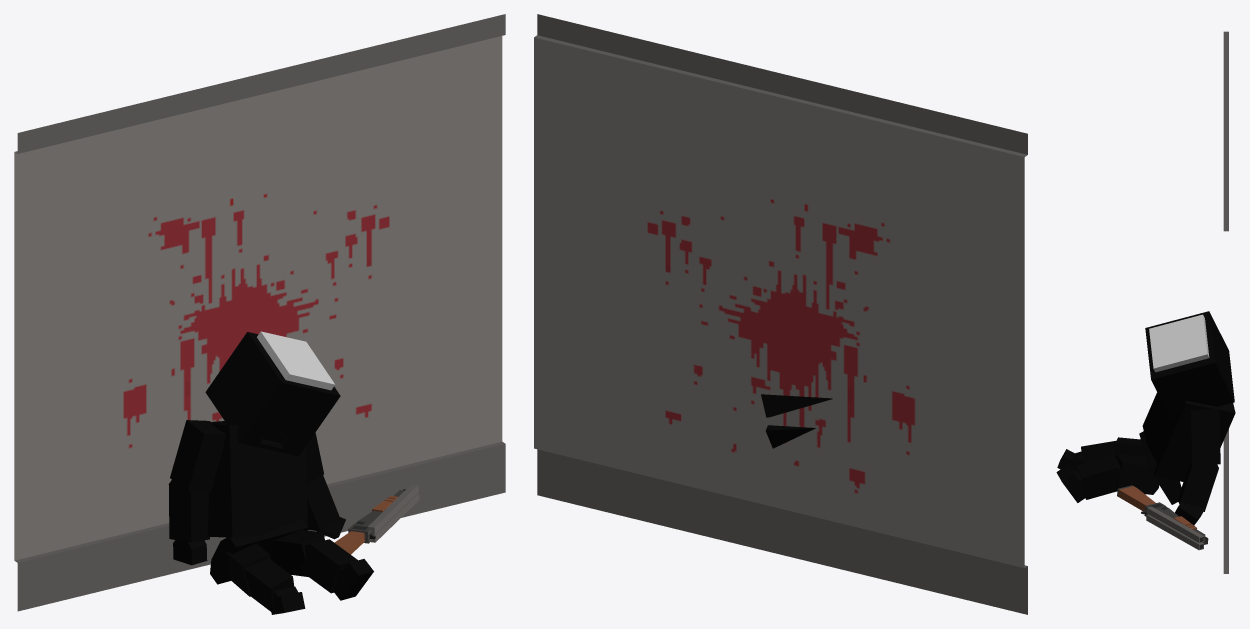
File: AI_Env_Shotgun_Suicide.fbx
3 views of the same model, side by side, from view 1: azimuth 30°, elevation 25°; view 2: azimuth 150°, elevation 25°; view 3: azimuth 270°, elevation 25° (orthographic). The views are drawn at different scales.
Visible parts, largest first — view 1: AI_Env_Shotgun_Suicide; view 2: AI_Env_Shotgun_Suicide; view 3: AI_Env_Shotgun_Suicide.
Part boxes in pixels (bbox=[...]): AI_Env_Shotgun_Suicide: bbox=[14, 14, 505, 614]; AI_Env_Shotgun_Suicide: bbox=[534, 14, 1027, 614]; AI_Env_Shotgun_Suicide: bbox=[1056, 31, 1235, 573].
Size of the model in its own units: 5 by 4.69 by 1.9.
